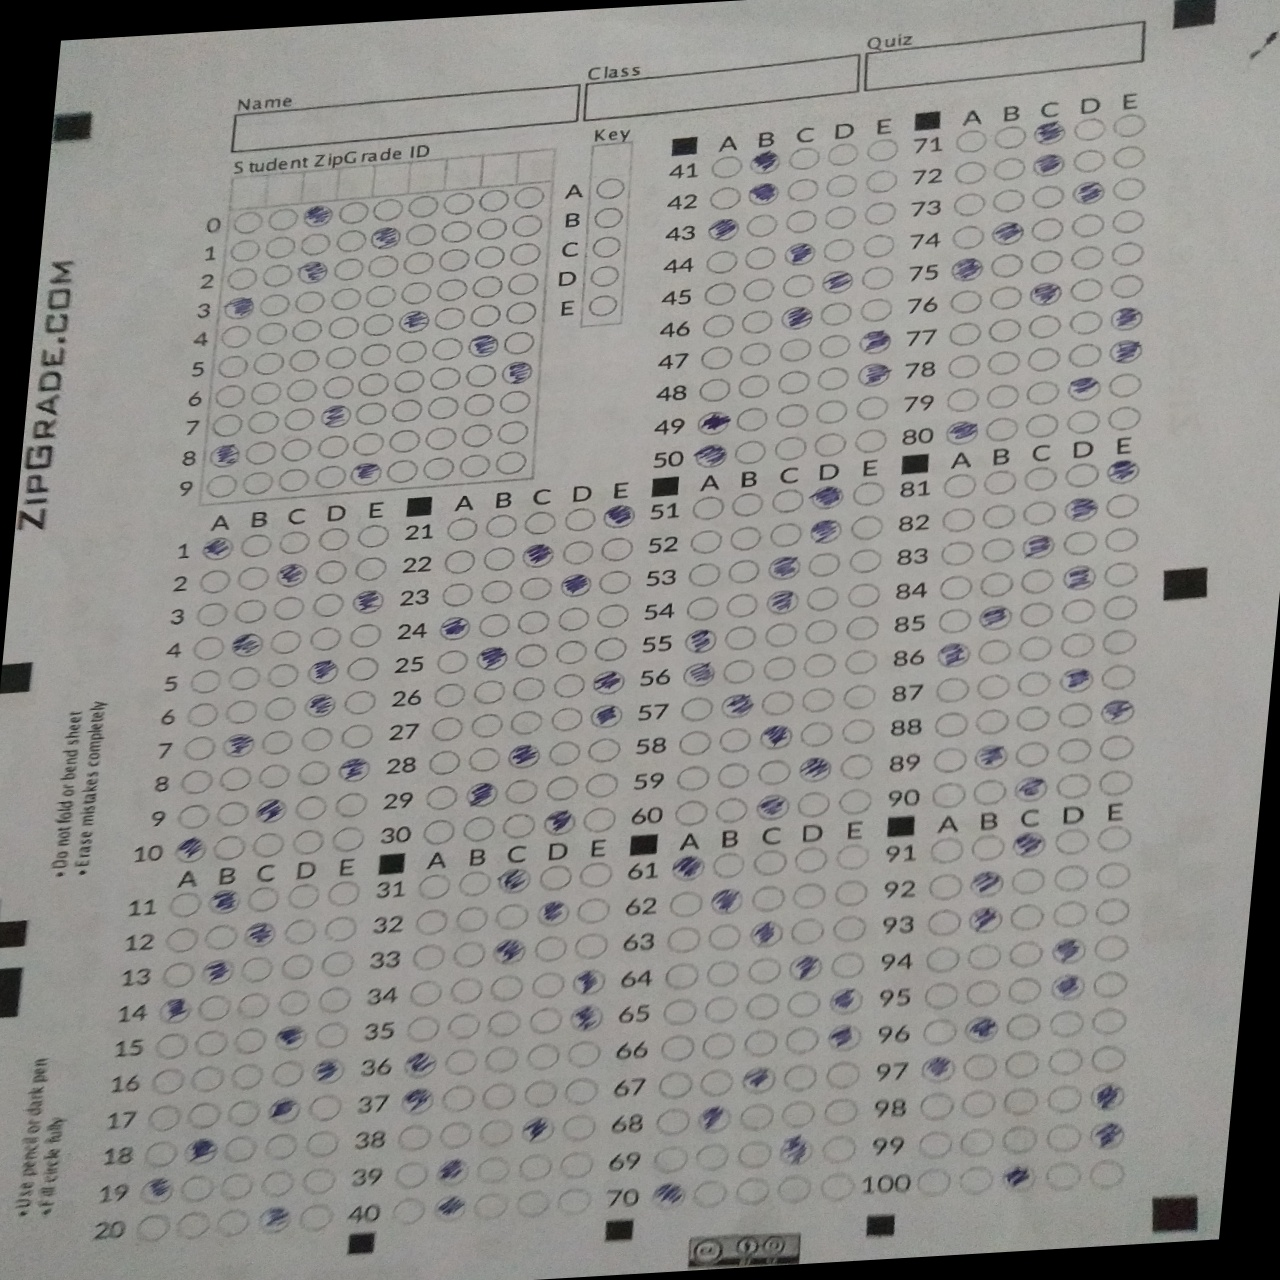not-c: (995, 1121, 1040, 1158), (652, 1065, 697, 1102), (955, 1160, 998, 1198), (1089, 931, 1137, 964), (922, 870, 971, 903), (913, 1088, 958, 1123), (1039, 1121, 1084, 1155), (813, 1169, 860, 1201), (137, 1133, 181, 1169), (647, 1142, 692, 1176), (1041, 1159, 1085, 1193), (913, 1162, 954, 1198), (918, 978, 961, 1012), (508, 1187, 556, 1218), (474, 1116, 518, 1149), (961, 975, 1006, 1008), (1089, 967, 1133, 1000), (920, 904, 965, 937), (1096, 625, 1141, 658), (956, 1123, 996, 1159), (384, 1192, 427, 1226), (828, 947, 870, 981), (914, 1126, 956, 1160), (1043, 1043, 1085, 1077), (1094, 765, 1136, 799), (554, 1148, 598, 1180), (471, 1155, 516, 1186), (553, 1184, 598, 1216), (999, 1048, 1043, 1080), (1047, 862, 1091, 893), (309, 1017, 350, 1051), (132, 1210, 173, 1244), (956, 1085, 998, 1119), (1062, 339, 1108, 369), (141, 1101, 183, 1133), (662, 887, 704, 920), (734, 1138, 776, 1171), (1085, 1157, 1128, 1190), (1091, 896, 1133, 928), (673, 726, 716, 757), (783, 986, 826, 1017), (779, 1061, 823, 1092), (1042, 1083, 1085, 1115), (920, 942, 964, 974), (818, 1096, 863, 1126), (924, 835, 968, 865), (672, 760, 712, 794), (819, 1130, 859, 1164), (692, 1141, 731, 1175), (522, 1040, 563, 1073), (659, 958, 700, 990), (779, 1023, 821, 1056), (1087, 1041, 1128, 1074), (669, 795, 712, 826), (842, 579, 885, 610), (939, 384, 982, 415), (183, 1098, 223, 1131), (302, 1126, 342, 1159), (297, 1201, 336, 1234), (390, 1158, 430, 1191), (733, 1175, 772, 1207), (1007, 972, 1047, 1005), (267, 1056, 308, 1088), (401, 1012, 442, 1043), (524, 1005, 565, 1036), (392, 1121, 433, 1152), (693, 372, 734, 403), (748, 883, 789, 914), (1089, 1005, 1130, 1036), (964, 939, 1005, 971), (220, 1133, 263, 1164), (570, 931, 612, 961), (406, 941, 448, 972), (813, 300, 856, 331), (835, 749, 877, 779), (748, 847, 790, 878), (651, 1105, 693, 1136), (998, 1085, 1040, 1116), (926, 779, 968, 810), (928, 708, 971, 738), (937, 470, 979, 501), (914, 1016, 958, 1046), (258, 1167, 297, 1200), (700, 992, 738, 1024), (697, 1065, 736, 1098), (305, 1090, 345, 1122), (835, 785, 874, 817), (656, 1032, 696, 1063), (690, 1177, 730, 1208), (774, 1172, 813, 1204), (1007, 937, 1047, 968), (147, 1064, 188, 1095), (411, 872, 452, 903), (564, 1037, 605, 1068), (481, 1043, 522, 1074), (559, 1111, 600, 1142), (433, 1118, 474, 1149), (470, 1190, 511, 1220), (789, 880, 830, 911), (697, 1029, 738, 1060), (1092, 858, 1133, 888), (971, 704, 1012, 735), (972, 672, 1013, 702), (1055, 629, 1096, 660), (1015, 565, 1056, 595), (937, 504, 978, 535), (1107, 270, 1148, 300), (855, 263, 897, 292), (1053, 700, 1095, 729), (974, 568, 1016, 598), (1061, 459, 1103, 489), (1021, 409, 1063, 438), (824, 1058, 862, 1091), (162, 922, 200, 954), (224, 1095, 263, 1126), (218, 1170, 257, 1201), (175, 1208, 213, 1240), (741, 1027, 779, 1058), (983, 380, 1022, 411), (226, 1060, 266, 1090), (406, 976, 445, 1007), (737, 1101, 777, 1131), (959, 1050, 999, 1081), (1094, 823, 1133, 853), (931, 674, 971, 704), (935, 605, 975, 635), (983, 346, 1023, 376), (298, 1166, 339, 1196), (490, 900, 531, 930), (561, 1077, 602, 1107), (662, 924, 703, 953), (744, 955, 785, 985), (1099, 593, 1141, 622), (1065, 307, 1107, 336), (944, 287, 985, 316), (946, 222, 987, 251), (196, 990, 232, 1023), (192, 1027, 230, 1058), (1099, 560, 1142, 588), (937, 571, 974, 602), (442, 1046, 481, 1076), (774, 367, 812, 397), (843, 612, 881, 642), (713, 794, 751, 824), (833, 878, 872, 908), (789, 915, 828, 946), (743, 990, 782, 1021), (1008, 865, 1047, 896), (1021, 462, 1060, 492), (188, 1063, 227, 1092), (577, 859, 617, 888), (484, 1008, 524, 1037), (696, 341, 736, 370), (772, 400, 812, 429), (851, 425, 891, 455), (849, 478, 888, 508), (754, 757, 794, 787), (713, 760, 753, 789), (1003, 1012, 1043, 1041), (1046, 1009, 1085, 1039), (968, 778, 1008, 808), (930, 743, 969, 772), (1013, 738, 1053, 768), (1054, 736, 1094, 765), (1099, 662, 1139, 692), (1015, 600, 1055, 629), (1060, 527, 1099, 557), (1102, 491, 1142, 520), (1022, 377, 1062, 407), (1057, 595, 1098, 624), (1101, 525, 1142, 553), (263, 1130, 300, 1160), (440, 1083, 477, 1114), (704, 958, 742, 988), (661, 996, 699, 1027), (1068, 241, 1105, 272), (1067, 147, 1109, 173), (481, 1081, 519, 1110), (853, 392, 892, 421), (840, 647, 879, 676), (790, 845, 829, 874), (778, 1099, 817, 1129), (1007, 903, 1046, 932), (969, 832, 1008, 862), (974, 636, 1013, 666), (1067, 274, 1105, 304), (227, 207, 267, 236), (583, 770, 622, 798), (285, 880, 325, 908), (527, 971, 567, 999), (522, 1078, 561, 1107), (829, 914, 869, 942), (703, 922, 743, 951), (1051, 828, 1091, 856), (1012, 703, 1051, 731), (937, 539, 976, 567), (1024, 313, 1064, 341), (1108, 240, 1148, 268), (282, 914, 319, 945), (232, 1024, 268, 1055), (178, 1172, 215, 1203), (454, 903, 490, 933), (486, 972, 523, 1002), (704, 154, 745, 181), (697, 312, 738, 339), (278, 951, 315, 980), (531, 933, 568, 962), (445, 1012, 483, 1041), (517, 1152, 554, 1182), (862, 165, 899, 195), (810, 429, 847, 458), (770, 433, 808, 462), (794, 789, 831, 818), (708, 851, 745, 880), (835, 840, 872, 870), (1055, 772, 1092, 802), (980, 502, 1017, 531), (1105, 402, 1143, 431), (1028, 246, 1065, 275), (212, 350, 251, 379), (449, 940, 488, 968), (737, 339, 776, 367), (838, 716, 877, 744), (1015, 633, 1054, 661), (1020, 499, 1058, 527), (980, 467, 1019, 495), (986, 315, 1024, 343), (951, 125, 989, 154), (209, 382, 248, 409), (535, 864, 574, 891), (863, 135, 903, 162), (700, 247, 740, 274), (1107, 372, 1146, 399), (1110, 113, 1150, 139), (275, 986, 311, 1016), (448, 974, 483, 1005), (1098, 733, 1133, 763), (234, 990, 271, 1020), (239, 954, 275, 983), (316, 985, 353, 1014), (574, 896, 611, 925), (777, 335, 813, 365), (1051, 899, 1088, 928), (1065, 406, 1102, 435), (952, 157, 988, 186), (425, 363, 463, 392), (319, 949, 356, 978), (455, 869, 492, 897), (411, 908, 449, 937), (688, 492, 726, 520), (758, 688, 796, 716), (1024, 343, 1062, 372), (1028, 182, 1065, 210), (989, 186, 1027, 215), (949, 190, 987, 218), (990, 155, 1028, 183), (704, 184, 743, 211), (782, 207, 821, 234), (799, 686, 838, 713), (945, 350, 983, 377), (1069, 211, 1108, 238), (717, 723, 753, 753), (580, 806, 617, 835), (324, 914, 360, 942), (202, 922, 238, 951), (215, 1208, 251, 1237), (823, 203, 859, 231), (813, 365, 850, 393), (989, 251, 1026, 279), (1110, 173, 1146, 202), (990, 122, 1027, 150), (505, 240, 543, 267), (422, 818, 459, 845), (823, 172, 860, 199), (862, 200, 899, 227), (859, 231, 897, 258), (701, 279, 738, 306), (778, 272, 816, 299), (769, 488, 806, 515), (799, 651, 837, 678), (1016, 670, 1054, 697), (946, 320, 983, 347), (1110, 207, 1148, 234), (857, 297, 896, 322), (815, 332, 853, 358), (978, 537, 1016, 563), (282, 376, 318, 404), (162, 960, 197, 988), (842, 682, 877, 710), (493, 418, 530, 445), (727, 524, 763, 551), (546, 738, 583, 765), (729, 490, 765, 517), (798, 720, 835, 747), (1029, 215, 1065, 241), (819, 237, 857, 263), (331, 256, 365, 284), (154, 1032, 188, 1060), (370, 195, 406, 222), (471, 241, 506, 268), (430, 334, 465, 361), (315, 433, 350, 459), (353, 399, 388, 425), (339, 722, 374, 749), (768, 520, 803, 547), (803, 617, 838, 644), (722, 624, 757, 651), (731, 437, 767, 464), (477, 188, 513, 213), (402, 222, 438, 247), (365, 252, 401, 278), (503, 299, 539, 325), (586, 736, 622, 762), (742, 244, 778, 270), (738, 309, 775, 335), (293, 287, 326, 315), (987, 285, 1024, 309), (1110, 145, 1148, 170), (257, 290, 291, 316), (209, 411, 243, 438), (353, 556, 387, 583), (690, 527, 724, 554), (226, 663, 260, 690), (224, 697, 258, 724), (721, 658, 755, 685), (470, 712, 504, 738), (467, 745, 501, 772), (215, 801, 248, 828), (474, 216, 509, 241), (436, 246, 471, 272), (399, 280, 434, 306), (434, 277, 469, 302), (587, 263, 622, 288), (350, 430, 386, 456), (423, 425, 458, 451), (459, 422, 495, 448), (461, 392, 496, 417), (496, 389, 531, 415), (457, 452, 492, 478), (425, 394, 461, 420), (389, 396, 424, 422), (241, 440, 277, 465), (307, 625, 342, 651), (345, 654, 380, 680), (476, 612, 511, 638), (553, 638, 588, 663), (556, 605, 591, 631), (763, 621, 798, 647), (423, 784, 458, 810), (503, 778, 538, 804), (544, 774, 579, 799), (294, 795, 329, 821), (333, 791, 368, 817), (175, 803, 210, 829), (740, 277, 775, 302), (736, 373, 771, 399), (441, 190, 477, 215), (217, 324, 253, 348), (588, 234, 625, 259), (825, 142, 862, 166), (1071, 116, 1108, 141), (252, 349, 285, 376), (464, 362, 497, 389), (735, 404, 768, 431), (406, 192, 440, 218), (335, 227, 369, 253), (440, 218, 474, 244), (329, 285, 363, 311), (290, 318, 324, 343), (287, 347, 321, 373), (324, 345, 358, 370), (501, 329, 535, 355), (248, 380, 282, 406), (388, 427, 422, 452), (282, 406, 316, 431), (246, 409, 280, 435), (393, 368, 427, 394), (483, 545, 517, 571), (275, 530, 309, 556), (443, 549, 477, 574), (316, 526, 350, 552), (239, 531, 273, 557), (195, 601, 229, 627), (233, 598, 267, 624), (272, 594, 306, 620), (236, 565, 270, 591), (313, 558, 347, 584), (561, 508, 595, 533), (421, 456, 455, 482), (277, 465, 311, 491), (356, 523, 390, 549), (445, 516, 479, 542), (314, 463, 348, 489), (311, 591, 345, 617), (198, 568, 232, 594), (441, 581, 475, 607), (268, 628, 302, 654), (597, 568, 631, 594), (601, 536, 635, 561), (595, 602, 629, 628), (513, 641, 547, 667), (435, 649, 469, 675), (593, 636, 627, 662), (479, 578, 513, 604), (519, 576, 553, 601), (806, 551, 840, 577), (726, 592, 760, 618), (688, 561, 722, 587), (266, 661, 300, 687), (190, 635, 224, 661), (433, 682, 467, 708), (297, 760, 331, 785), (260, 729, 294, 755), (300, 726, 334, 751), (186, 700, 220, 726), (342, 689, 376, 715), (263, 696, 297, 722), (847, 547, 881, 573), (181, 768, 215, 794), (219, 765, 253, 791), (182, 734, 216, 760), (850, 515, 884, 540), (430, 715, 464, 741), (508, 709, 542, 735), (680, 696, 714, 722), (549, 706, 583, 731), (472, 679, 506, 704), (511, 675, 545, 701), (551, 673, 585, 699), (762, 655, 796, 681), (211, 835, 245, 860), (250, 831, 284, 857), (291, 829, 325, 855), (502, 812, 536, 838), (462, 815, 496, 840), (245, 886, 279, 912), (326, 880, 360, 906), (745, 212, 779, 238), (813, 399, 847, 424), (265, 206, 300, 231), (469, 275, 504, 300), (358, 342, 393, 367), (394, 339, 429, 363), (278, 437, 313, 462), (522, 510, 557, 535), (384, 458, 420, 483), (348, 622, 383, 647), (804, 586, 839, 611), (685, 595, 720, 620), (516, 608, 551, 633), (402, 248, 434, 275), (594, 173, 626, 200), (785, 147, 822, 170), (365, 282, 397, 308), (256, 320, 288, 346), (327, 314, 360, 340), (361, 312, 394, 338), (513, 185, 547, 210), (229, 237, 263, 261), (263, 234, 297, 259), (299, 231, 333, 256), (506, 271, 540, 295), (433, 306, 467, 331), (241, 470, 275, 495), (204, 474, 238, 498), (493, 449, 527, 474), (484, 513, 518, 538), (561, 540, 595, 565), (727, 558, 761, 583), (188, 668, 222, 693), (256, 762, 290, 787), (427, 750, 461, 775), (331, 826, 365, 851), (166, 892, 200, 917), (785, 177, 819, 202), (260, 263, 292, 288), (468, 302, 501, 327), (586, 292, 619, 316), (356, 372, 389, 396), (319, 375, 353, 399), (983, 417, 1017, 441), (336, 200, 369, 224), (225, 266, 258, 290), (591, 205, 624, 229), (511, 213, 543, 237)
taken-c: (960, 1010, 1005, 1046), (1084, 1117, 1129, 1151), (775, 1132, 816, 1167), (1085, 1078, 1126, 1114), (998, 1160, 1040, 1194), (738, 1062, 779, 1096), (918, 1051, 959, 1085), (1055, 663, 1097, 696), (965, 903, 1007, 935), (1047, 971, 1089, 1003), (747, 915, 787, 949), (695, 1102, 735, 1136), (706, 884, 747, 917), (785, 951, 826, 983), (135, 1175, 177, 1206), (828, 983, 866, 1017), (1008, 829, 1049, 860), (1049, 934, 1090, 966), (1097, 697, 1139, 728), (519, 1114, 558, 1146), (254, 1204, 294, 1235), (433, 1157, 472, 1189), (397, 1085, 437, 1117), (490, 935, 530, 967), (198, 956, 239, 987), (824, 1021, 865, 1051), (966, 869, 1007, 899), (571, 966, 610, 998), (649, 1180, 688, 1212), (935, 639, 974, 670), (181, 1136, 220, 1166), (1061, 493, 1101, 524), (1058, 561, 1098, 592), (972, 742, 1012, 772), (1012, 774, 1051, 804), (1105, 338, 1148, 366), (808, 516, 846, 546), (309, 1055, 348, 1085), (401, 1049, 440, 1080), (988, 217, 1027, 247), (795, 754, 835, 783), (155, 995, 195, 1024), (668, 853, 708, 883), (1065, 374, 1105, 403), (1019, 531, 1058, 560), (975, 602, 1015, 632), (853, 360, 894, 388), (855, 328, 896, 356), (941, 418, 982, 447), (1103, 458, 1144, 486), (267, 1092, 304, 1124), (535, 897, 572, 927), (542, 806, 580, 836), (754, 791, 792, 821), (493, 866, 532, 896), (778, 302, 817, 332), (704, 215, 743, 244), (471, 644, 511, 672), (566, 1003, 606, 1032), (1029, 120, 1069, 148), (241, 918, 277, 949), (505, 741, 542, 771), (600, 501, 638, 530), (464, 779, 502, 809), (763, 587, 801, 617), (758, 722, 796, 751), (1069, 178, 1107, 207), (1109, 302, 1146, 332), (808, 483, 846, 511), (681, 627, 720, 655), (430, 1193, 469, 1221), (1026, 279, 1064, 307), (693, 410, 733, 437), (693, 441, 729, 470), (252, 797, 290, 825), (171, 836, 209, 864), (680, 660, 717, 688), (719, 692, 756, 720), (272, 1024, 309, 1053), (349, 588, 388, 615), (588, 668, 627, 695), (765, 554, 804, 581), (817, 268, 856, 295), (338, 755, 373, 784), (559, 568, 594, 598), (498, 358, 535, 386), (305, 658, 341, 686), (220, 730, 257, 758), (747, 148, 783, 176), (436, 614, 474, 641), (587, 701, 625, 728), (947, 256, 985, 282), (199, 535, 236, 561), (301, 692, 338, 719), (520, 542, 557, 568), (781, 240, 817, 267), (745, 181, 782, 207), (1030, 151, 1067, 178), (367, 225, 404, 251), (299, 203, 335, 229), (294, 258, 331, 284), (206, 442, 243, 468), (273, 561, 309, 587), (205, 888, 241, 914), (227, 632, 265, 656), (349, 461, 384, 486), (220, 295, 257, 320), (316, 403, 353, 428), (397, 308, 430, 335), (467, 332, 499, 359)
